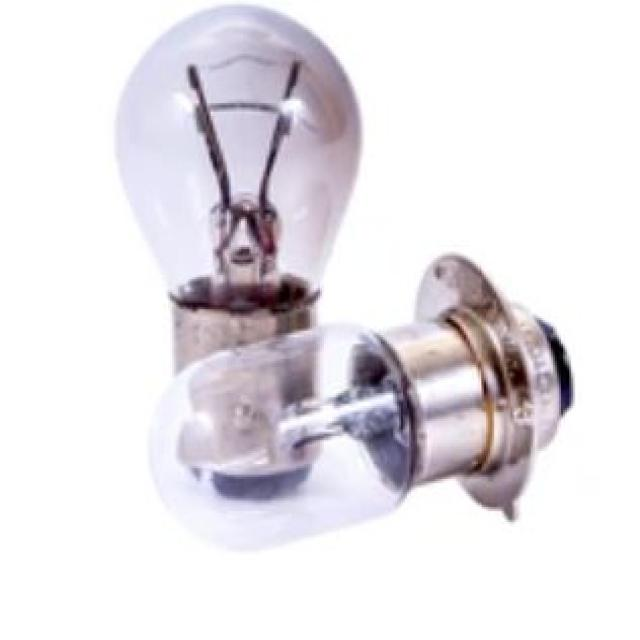electronic: (148, 249, 573, 550), (111, 0, 362, 372)
